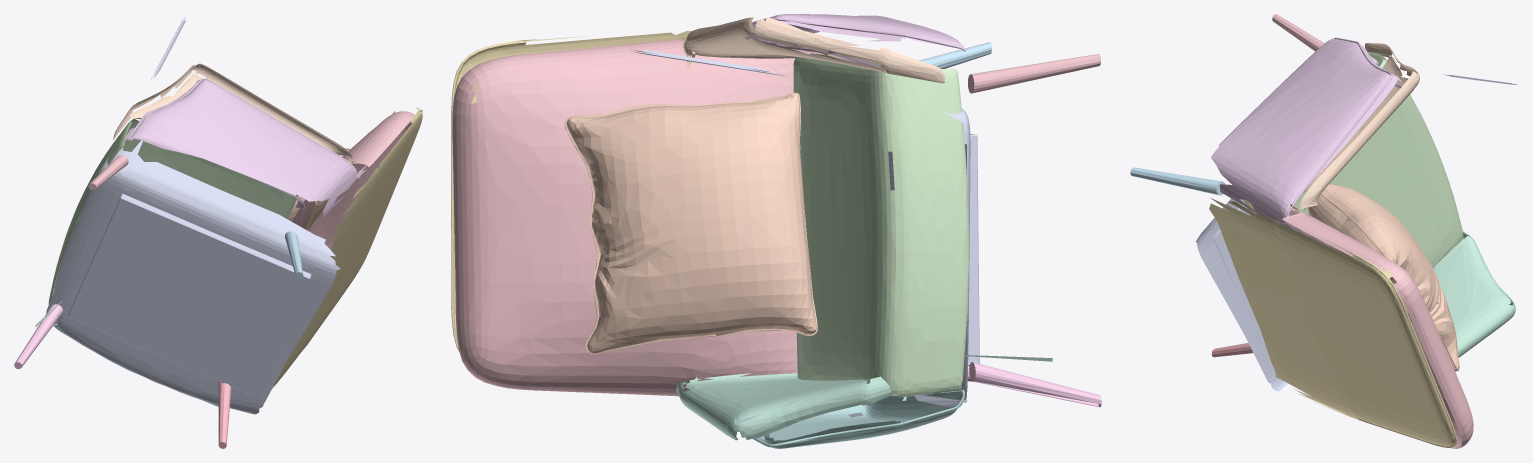
Rendered from view_assembly_9_colored.glb.
The picture shows the model from 3 angles, left to right: view 1: azimuth 30°, elevation 25°; view 2: azimuth 150°, elevation 25°; view 3: azimuth 270°, elevation 25°; orthographic projection. The views are drawn at different scales.
Parts seen in each view (by area): view 1: world; view 2: world; view 3: world.
Part boxes in pixels (x1=…): world: x1=14, y1=15, x2=422, y2=448; world: x1=451, y1=14, x2=1101, y2=448; world: x1=1130, y1=14, x2=1516, y2=448.
Bounding box in the file's own units: 1.03 × 0.7134 × 0.7609.
